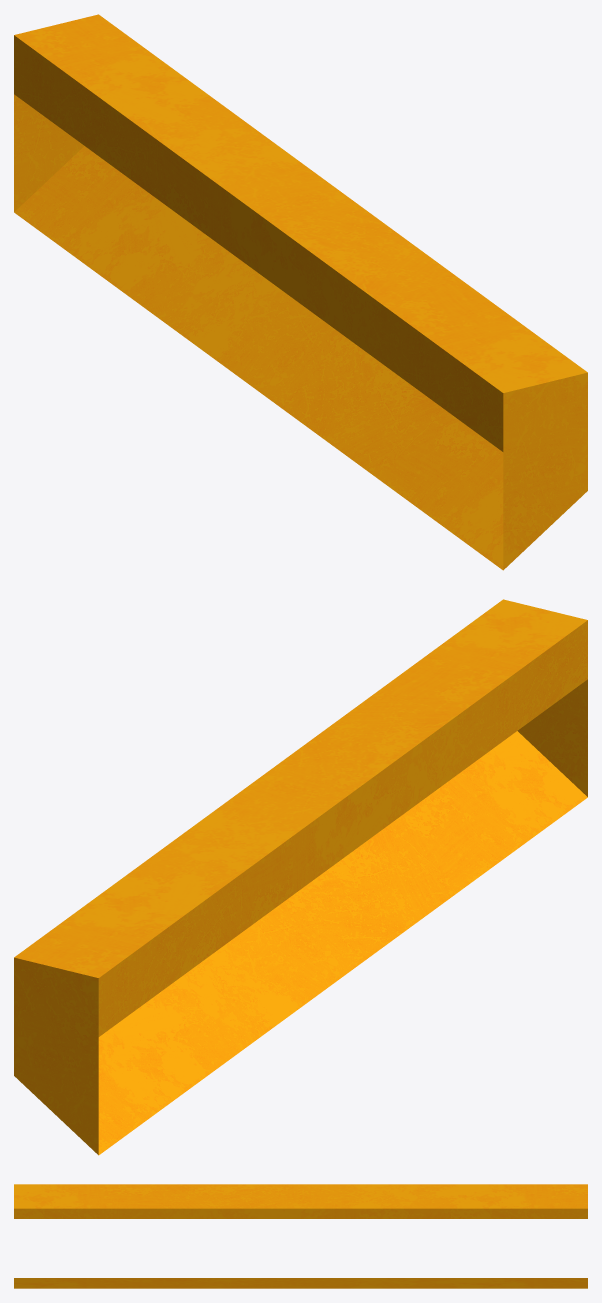
The model's file is 300W1StepStairs_02_SM_Low.fbx.
3 views of the same model, one above another, from view 1: azimuth 30°, elevation 25°; view 2: azimuth 150°, elevation 25°; view 3: azimuth 270°, elevation 25° (orthographic). The views are drawn at different scales.
Parts seen in each view (by area): view 1: Base_Geo; view 2: Base_Geo; view 3: Base_Geo.
Boxes of the visible parts, <box> form: Base_Geo: <box>14,14,587,570</box>; Base_Geo: <box>14,599,587,1155</box>; Base_Geo: <box>14,1184,587,1288</box>.
Size of the model in its own units: 30 by 60 by 300.
1 material, 1 textured.
